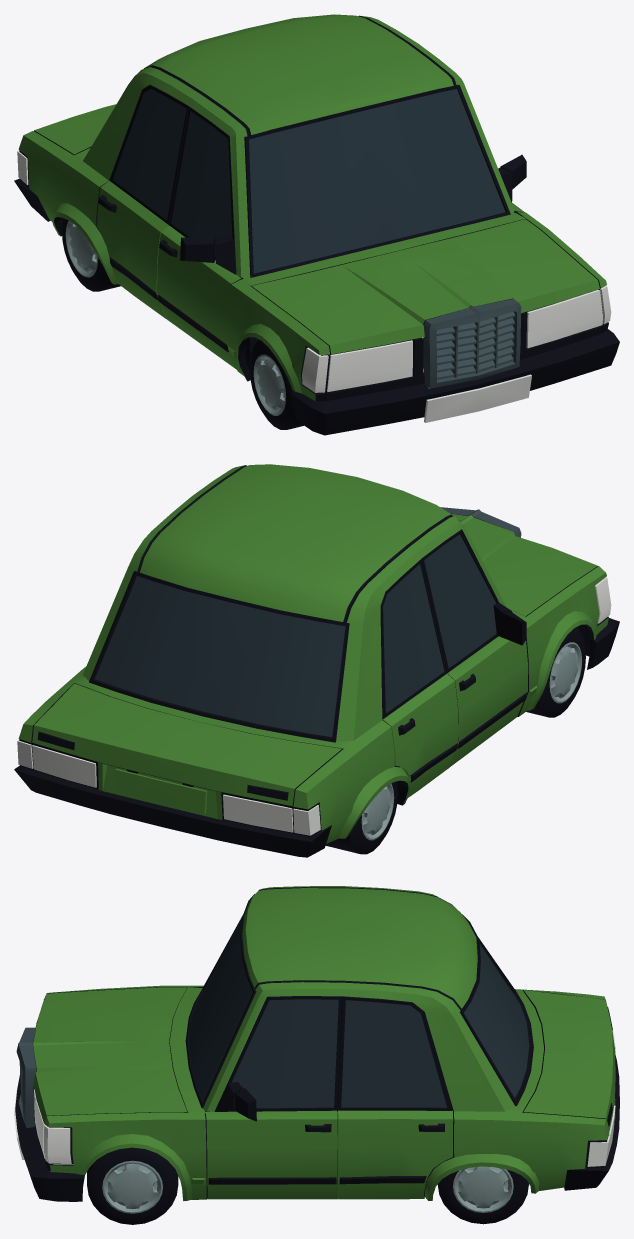
The model's file is car2.fbx.
3 views of the same model, one above another, from view 1: azimuth 30°, elevation 25°; view 2: azimuth 150°, elevation 25°; view 3: azimuth 270°, elevation 25° (orthographic). The views are drawn at different scales.
Parts seen in each view (by area): view 1: Car 2; view 2: Car 2; view 3: Car 2.
Boxes of the visible parts, x1,y1,x2,y2 form: Car 2: (14,14,619,435); Car 2: (14,464,619,857); Car 2: (14,886,619,1224).
Size of the model in its own units: 135 by 93.8 by 221.
1 material, 1 textured.
